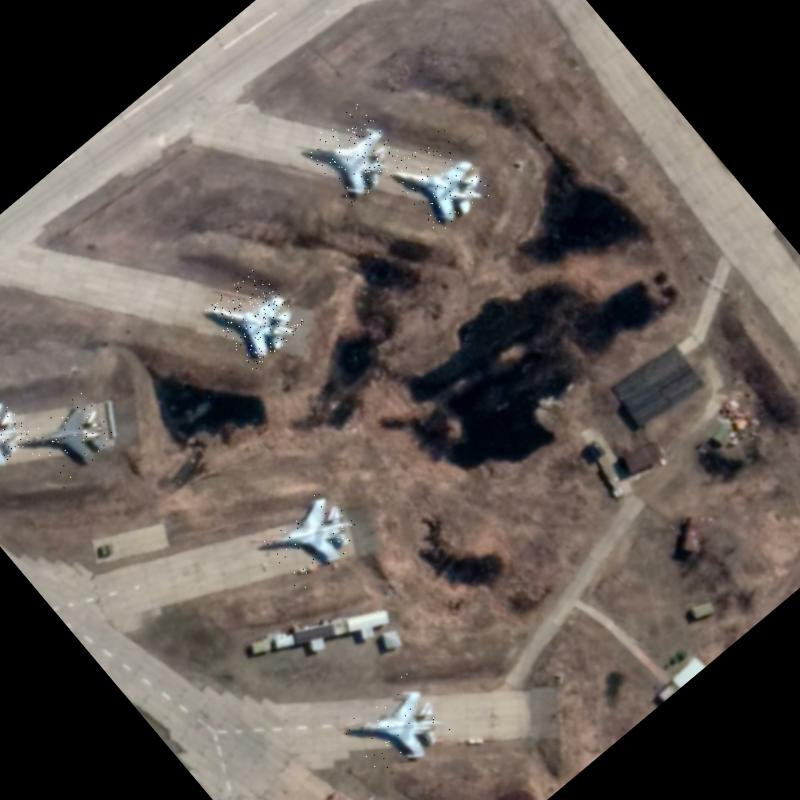A1: (340, 672, 454, 786), (386, 126, 496, 236), (257, 485, 365, 592), (202, 264, 307, 370), (302, 100, 407, 206), (20, 390, 121, 490), (0, 388, 35, 493)
